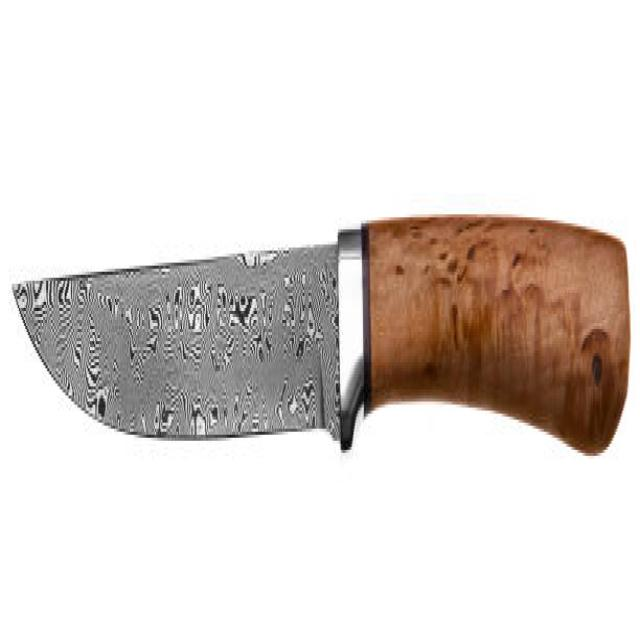knife: (10, 195, 635, 500)
